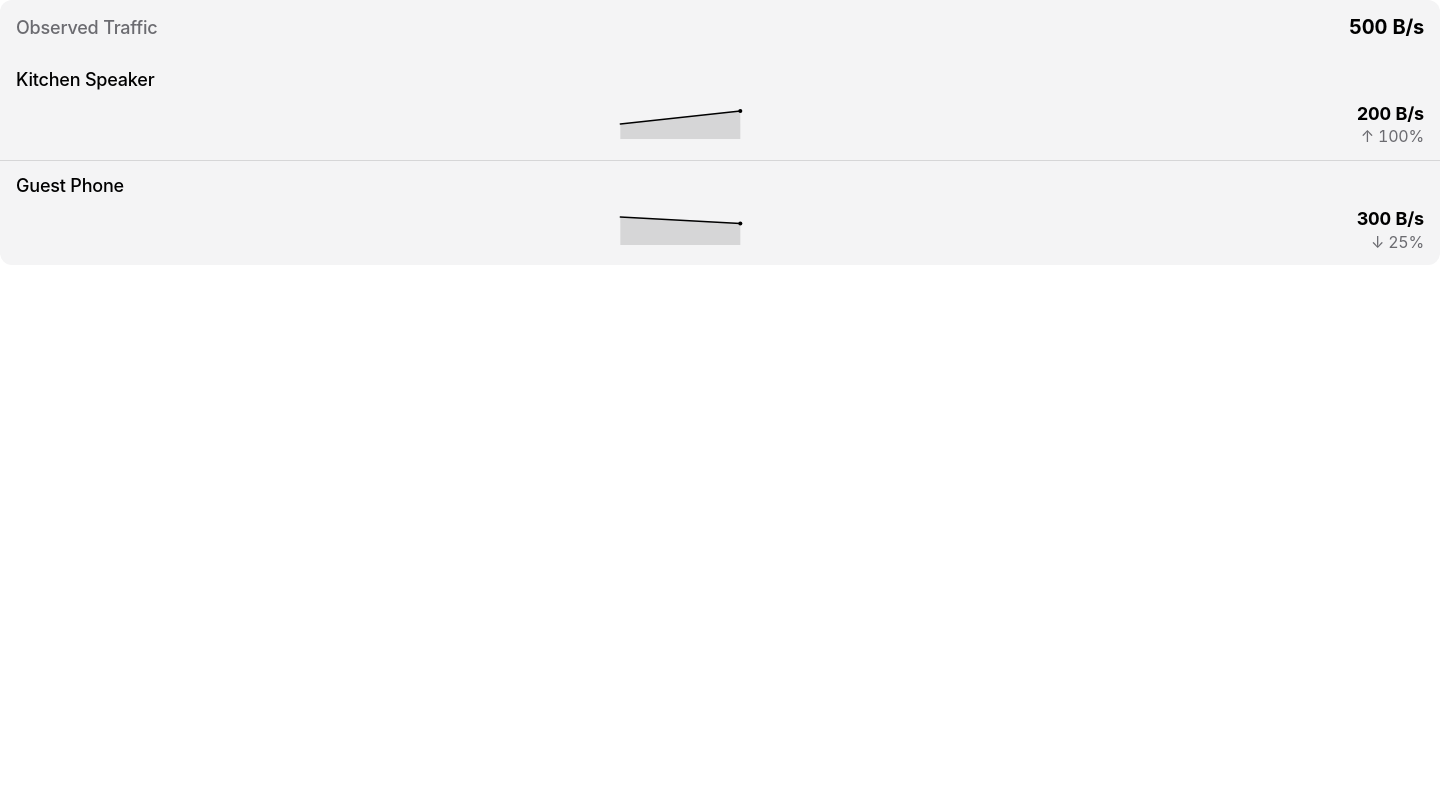
Test case: separates device rates and switches detail charts without new requests
The image size is (1440, 810).
Expected: the button with aria-label "Open Traffic for Guest Phone" shows "300 B/s", [0, 161, 1439, 265]
Click the button with aria-label "Open Traffic for Kitchen Speaker" at (720, 108), box [0, 55, 1439, 161]
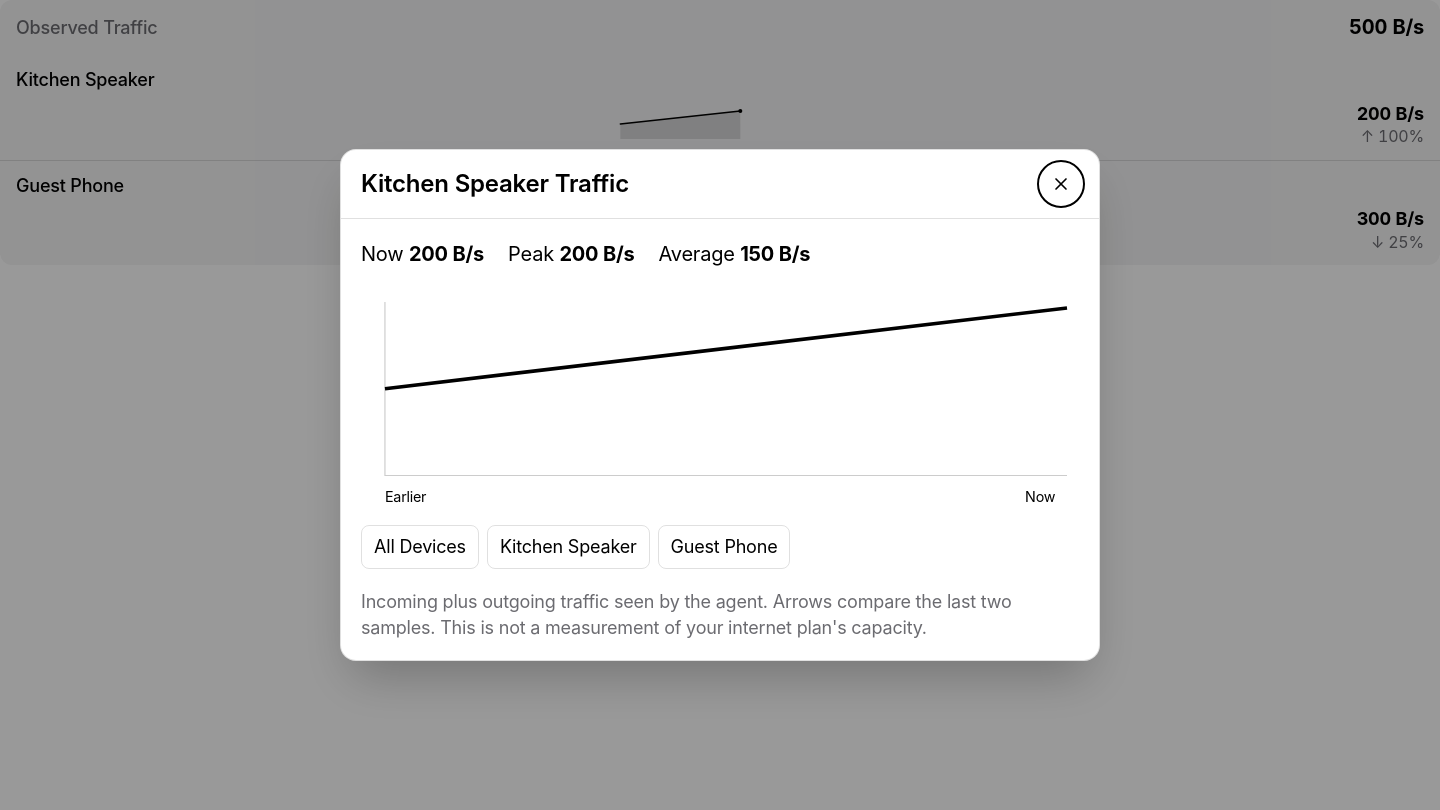
Expected: the picture named "Recent observed traffic for Kitchen Speaker" is shown, [361, 290, 1079, 505]
Click the button "Guest Phone" at (724, 547), box [658, 525, 790, 569]
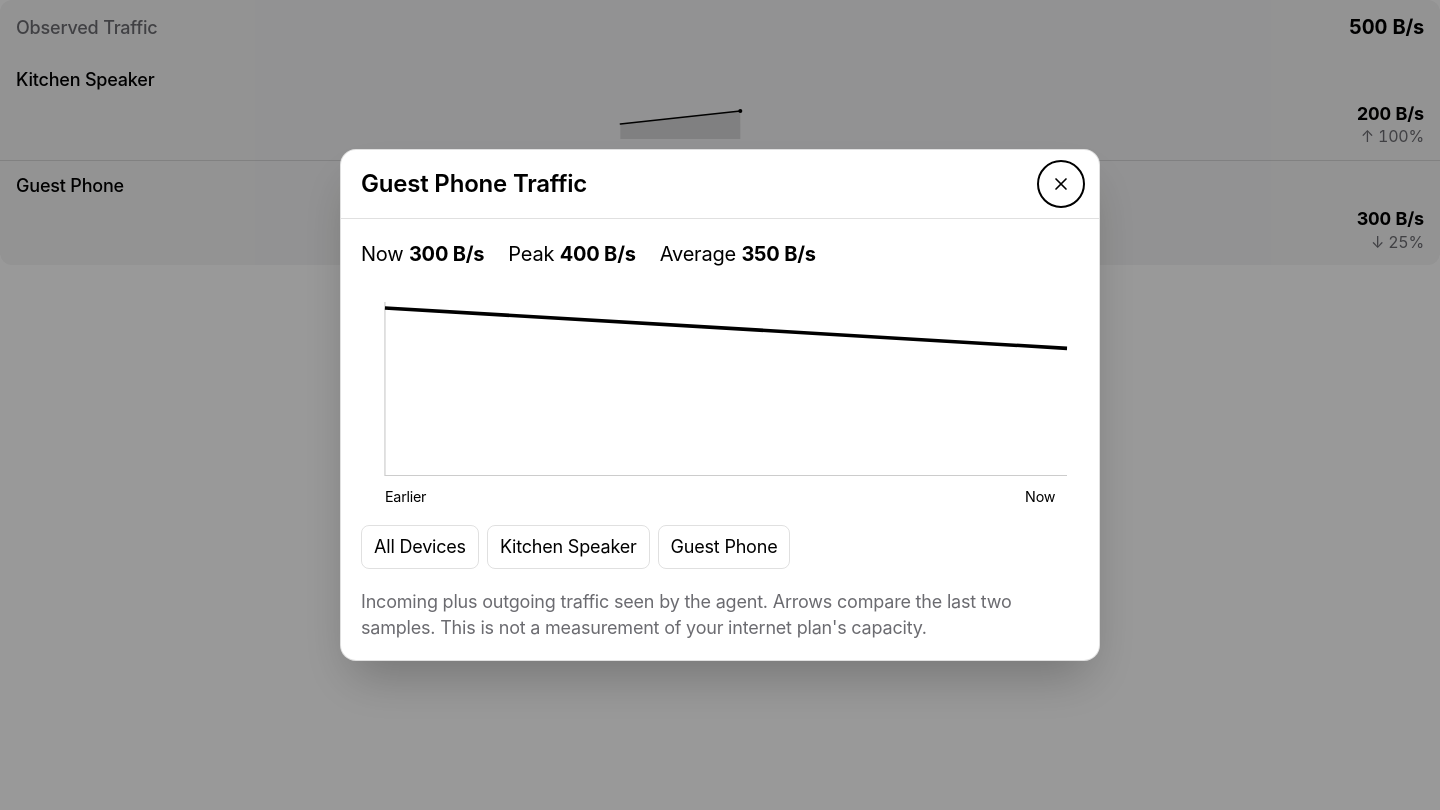
Expected: the picture named "Recent observed traffic for Guest Phone" is shown, [361, 290, 1079, 505]
